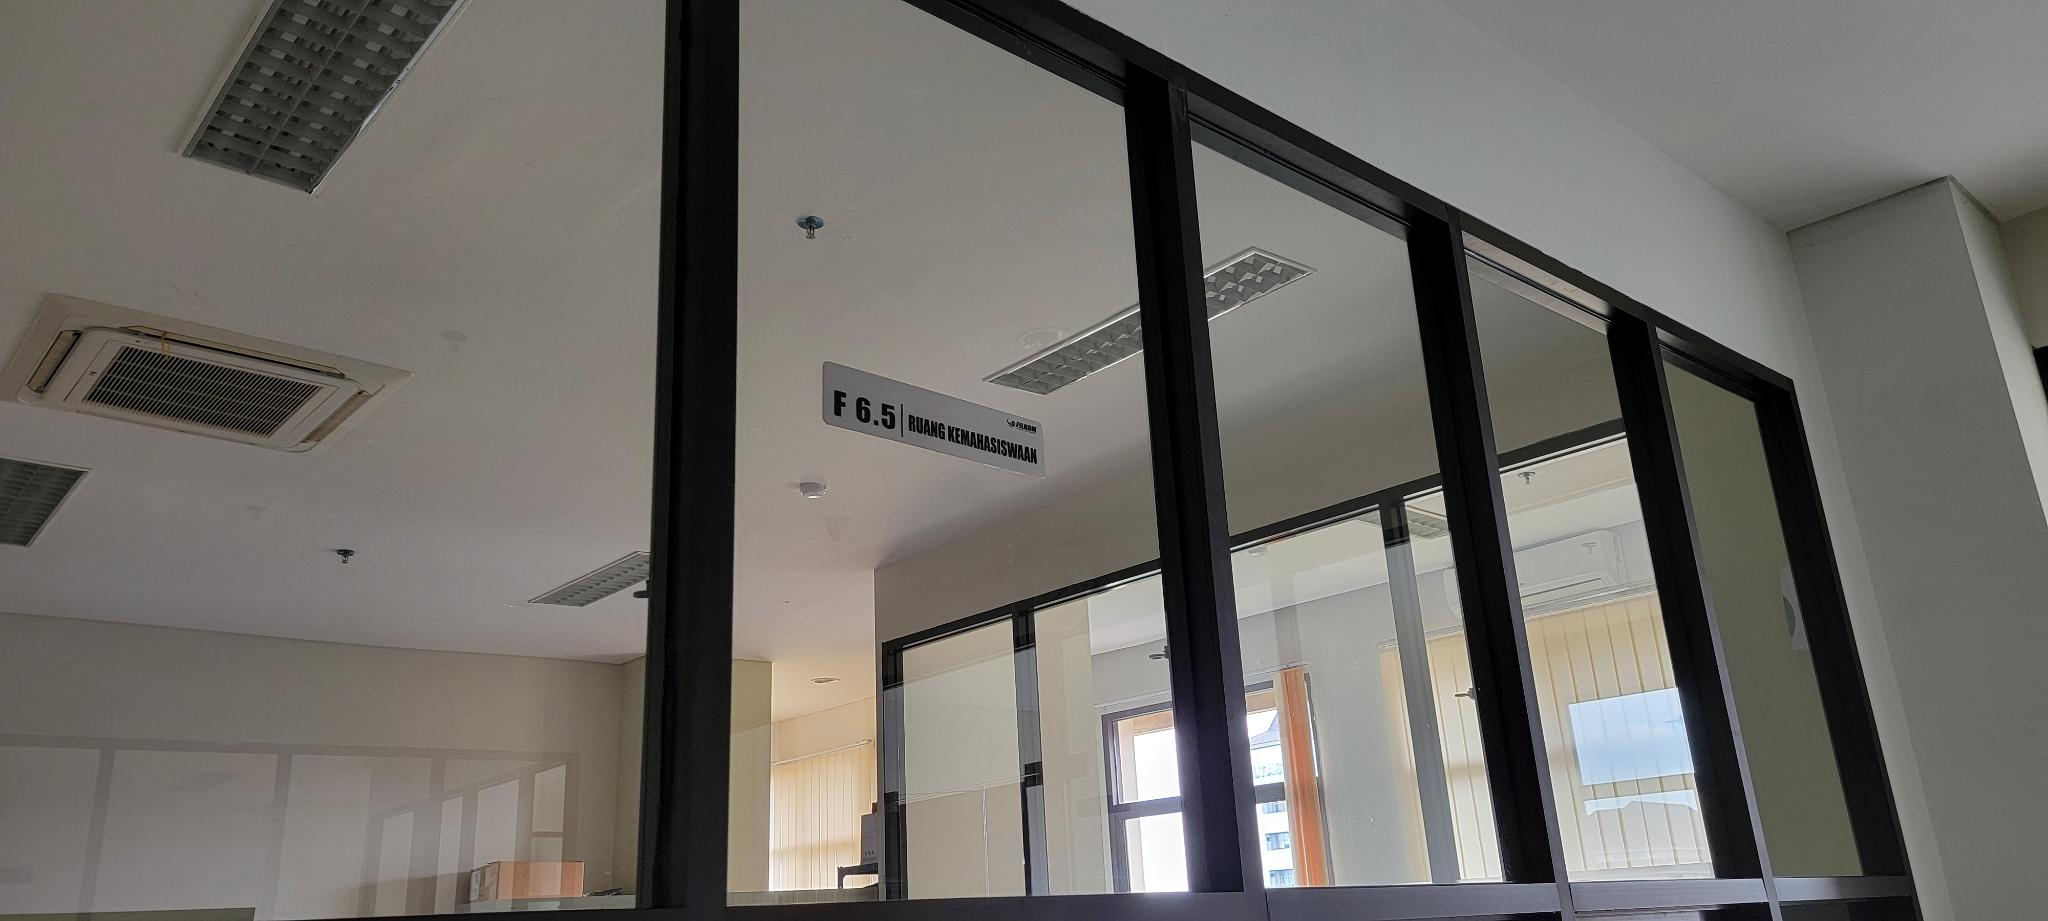plate: (823, 359, 1045, 479)
